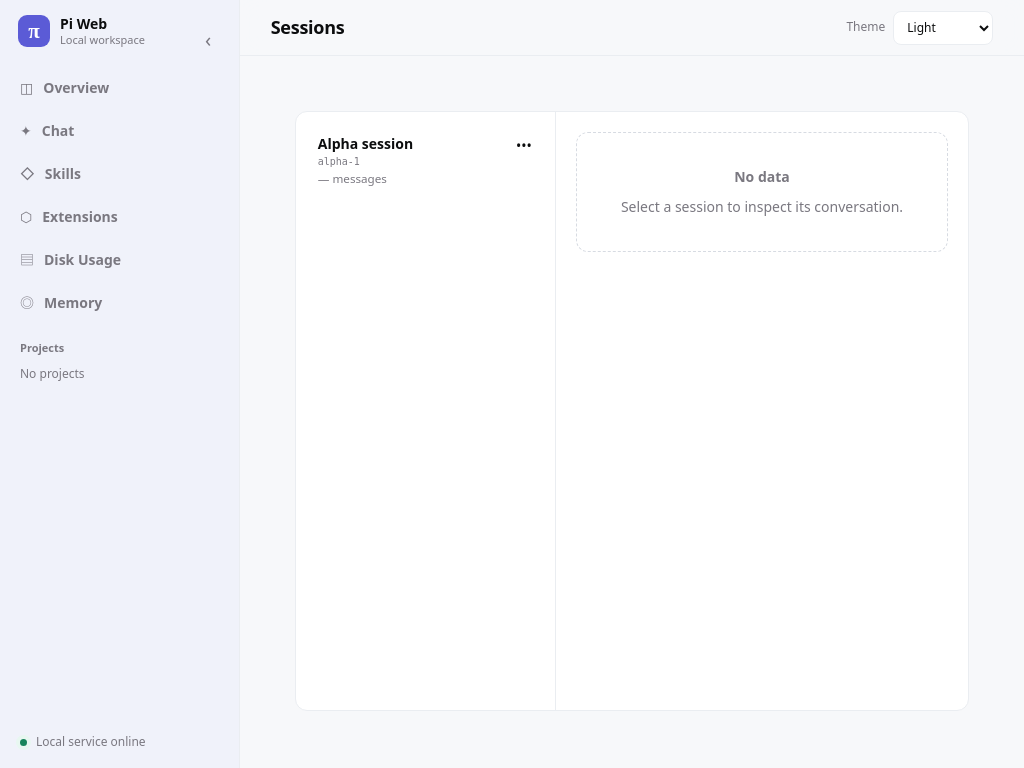
Scenario: App › keeps the selected project in the URL when opening a session
The width and height of the screenshot is (1024, 768).
Check: the number of headings "Sessions" is 1, box [271,14,344,41]
Step 1. Click the button "Alpha session alpha-1 — messages" → (425, 160), box [308,124,543,197]
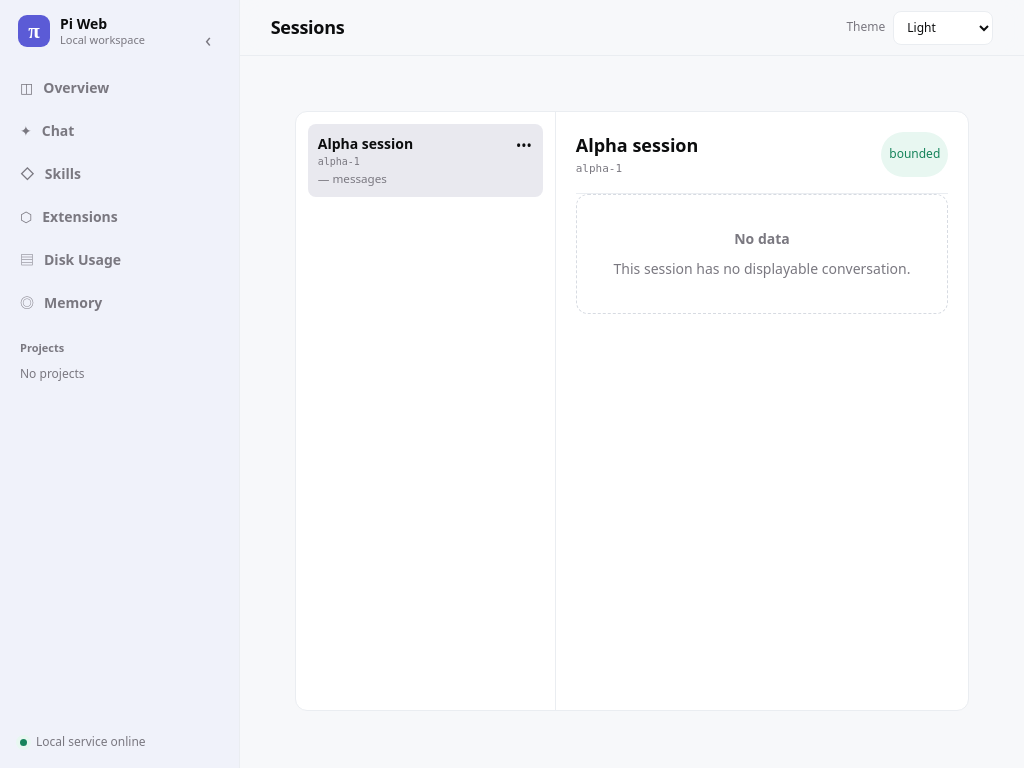
Check: the heading "Alpha session" is shown, box [576,132,698,160]
